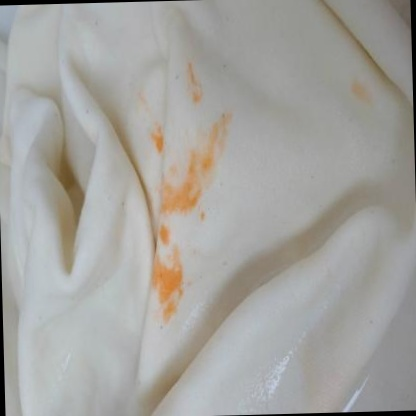kimchi: (151, 113, 237, 229), (134, 230, 198, 328), (174, 58, 210, 111), (141, 89, 167, 156), (340, 72, 374, 114)
